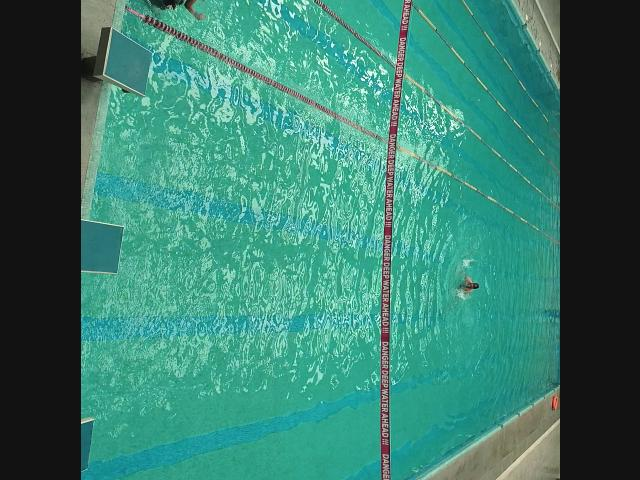swimming: (142, 0, 240, 20), (460, 276, 478, 296)
